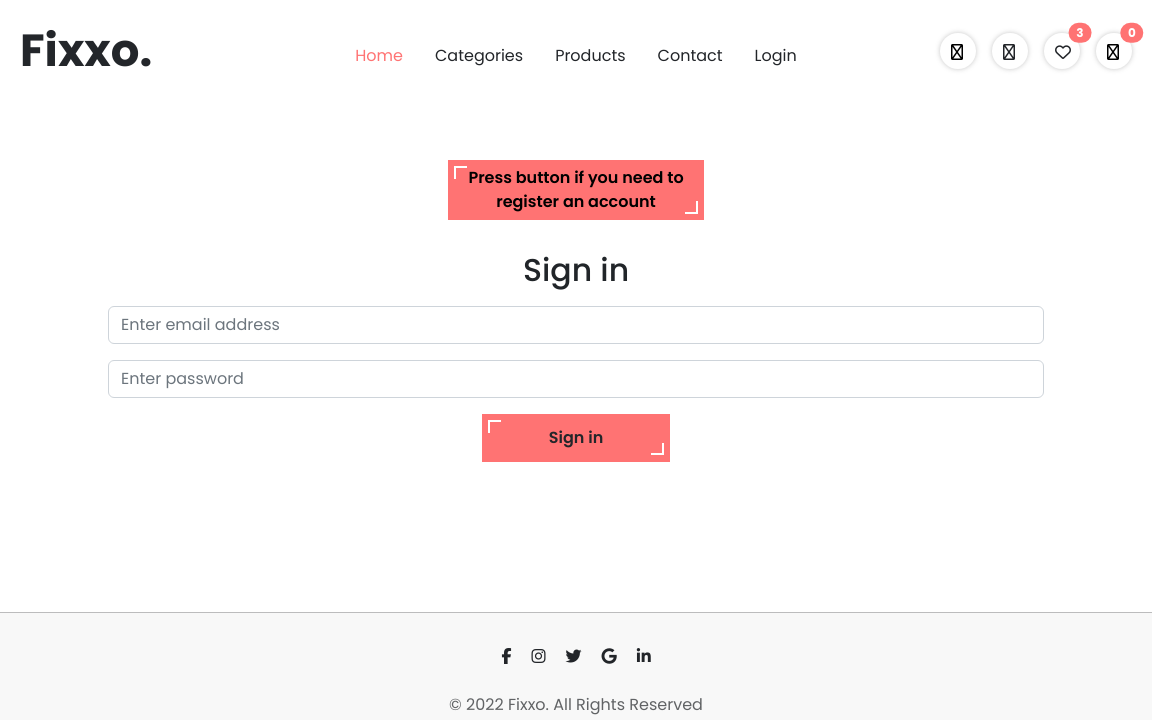
Test: UserView › can set form to register
// click button to view register form
Click the button with test id "SignUpSignInToggle".
click(576, 190)  # box [448, 160, 704, 220]
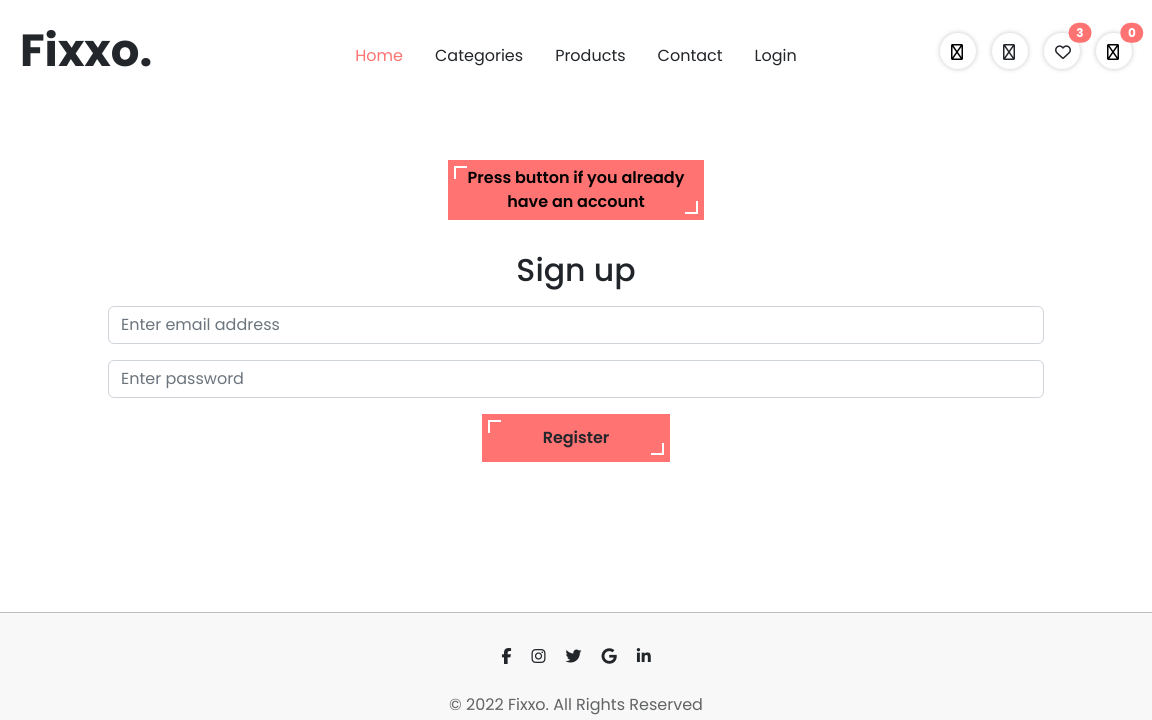
Check: the button "Register" is shown, box [482, 414, 670, 462]
